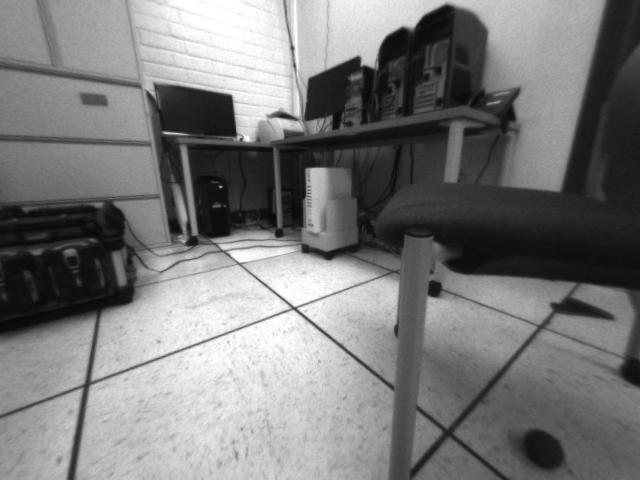dogtoy: (515, 418, 575, 476)
